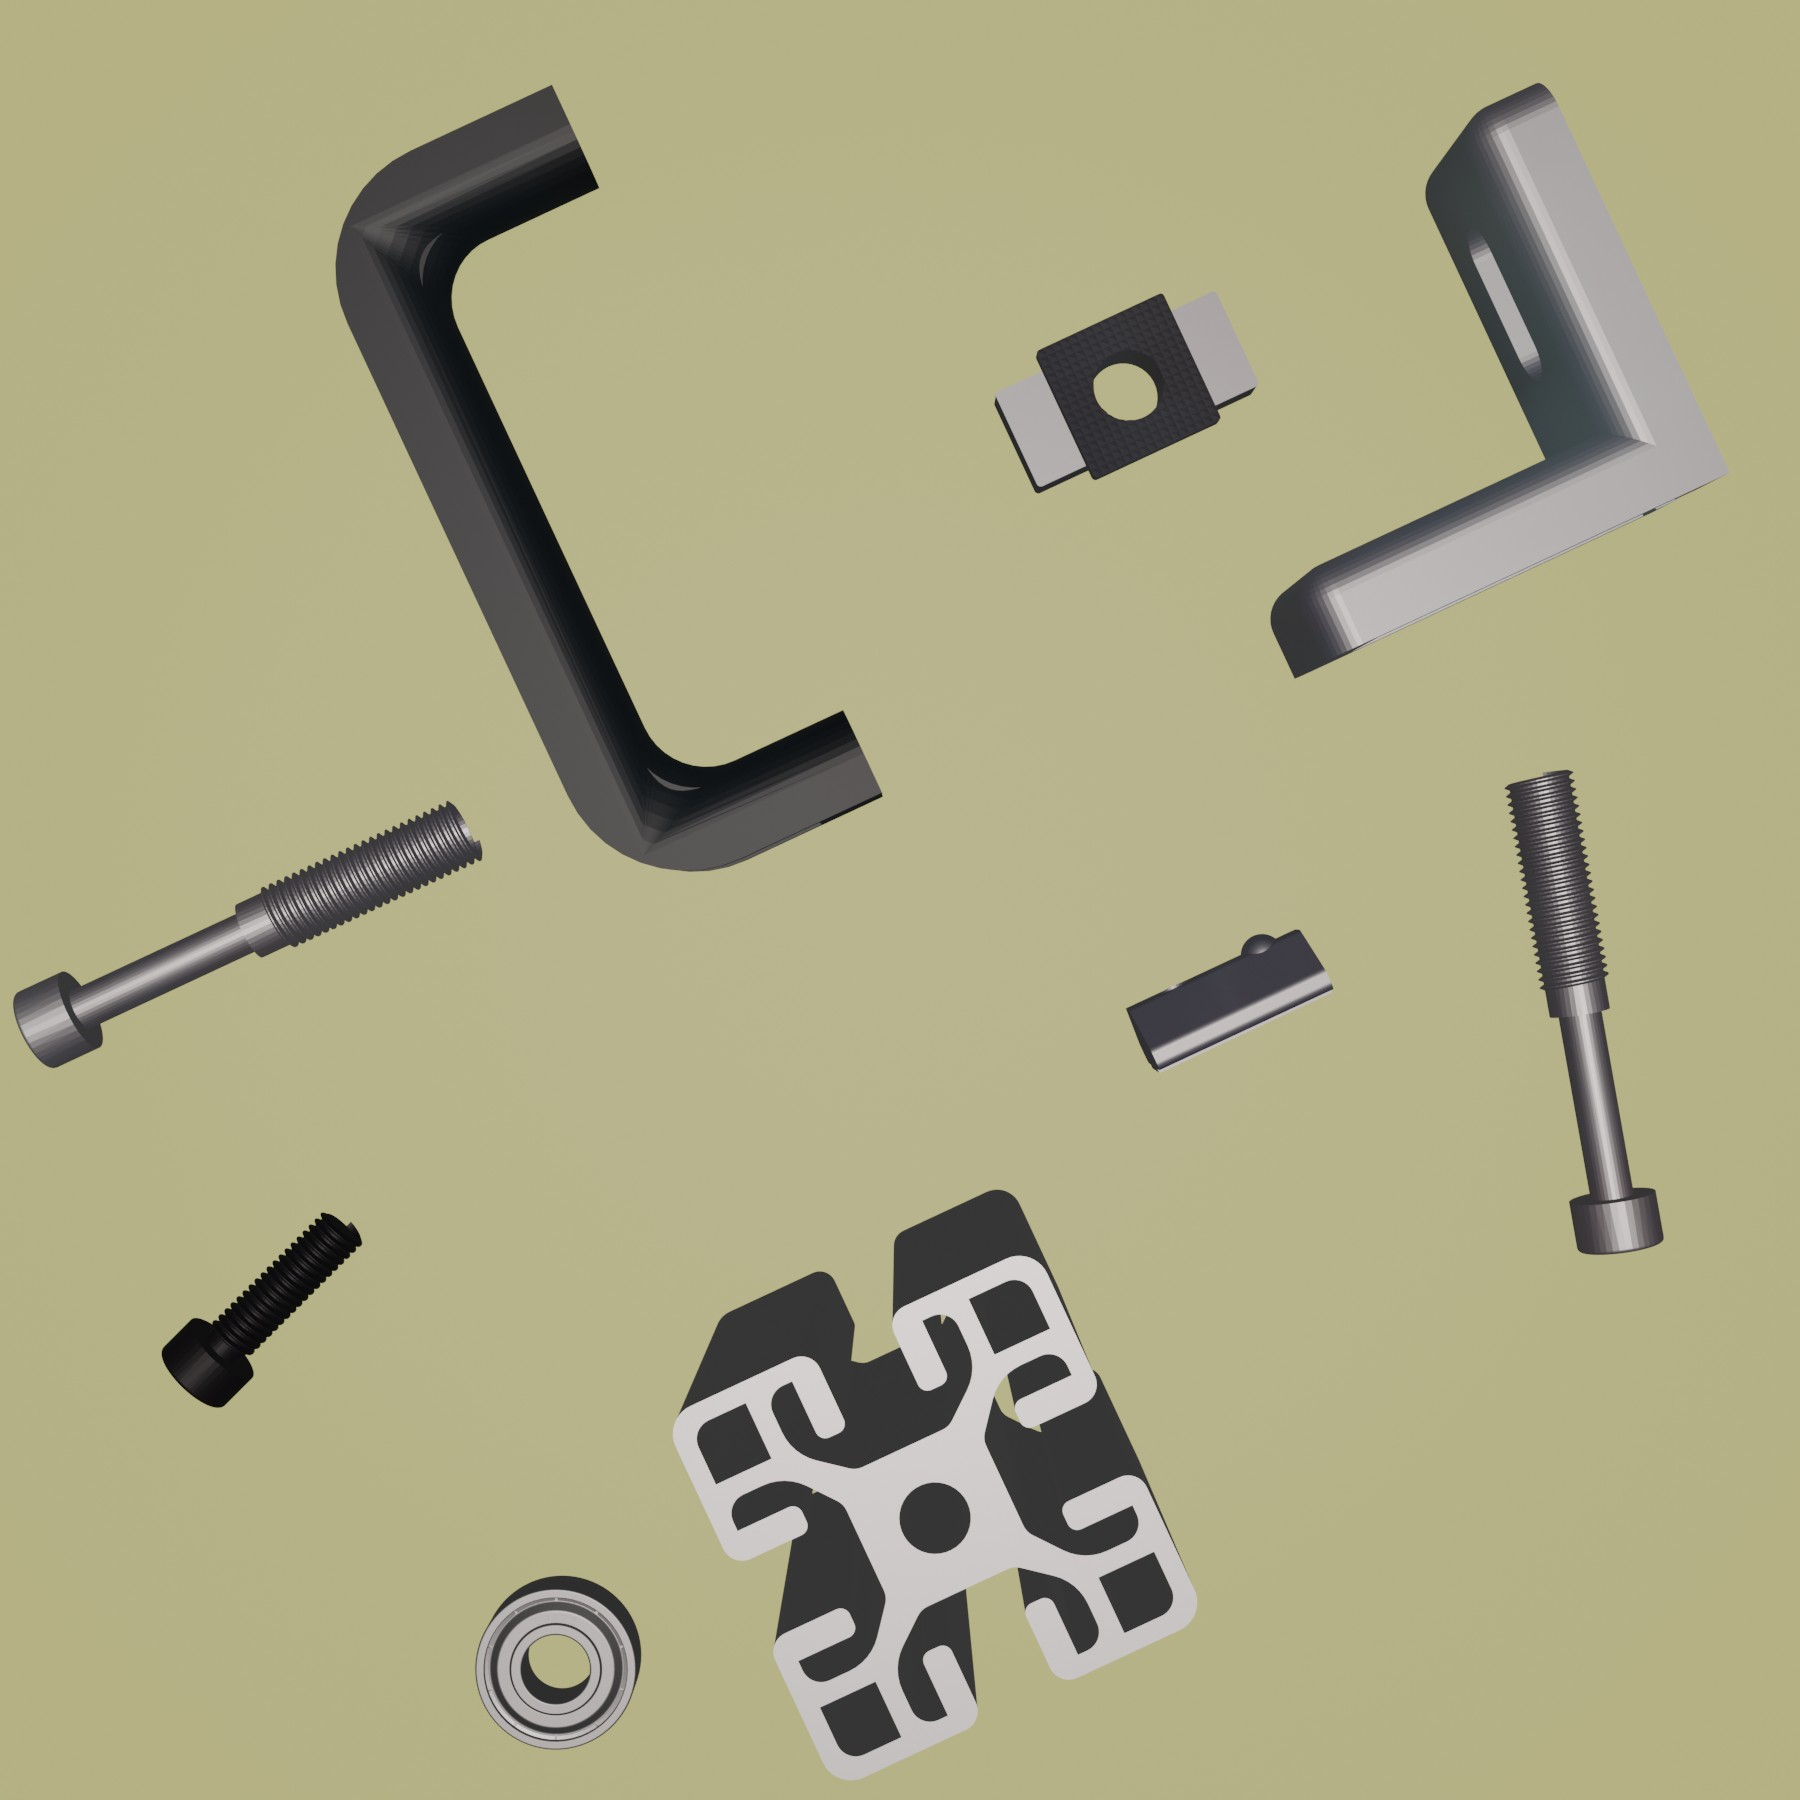Aluminium Extension: (669, 1188, 1202, 1782)
Ball Bearing: (470, 1569, 645, 1752)
Multiwinkel: (1269, 77, 1736, 684)
Pull Handle: (331, 82, 884, 874)
Shoulder Socket Head Cap Screw: (12, 799, 483, 1068), (1502, 770, 1666, 1258)
Socket Head Cap Screw: (158, 1208, 363, 1409)
T Nut Square: (992, 280, 1259, 495)
T Spring Nut: (1124, 925, 1338, 1075)
